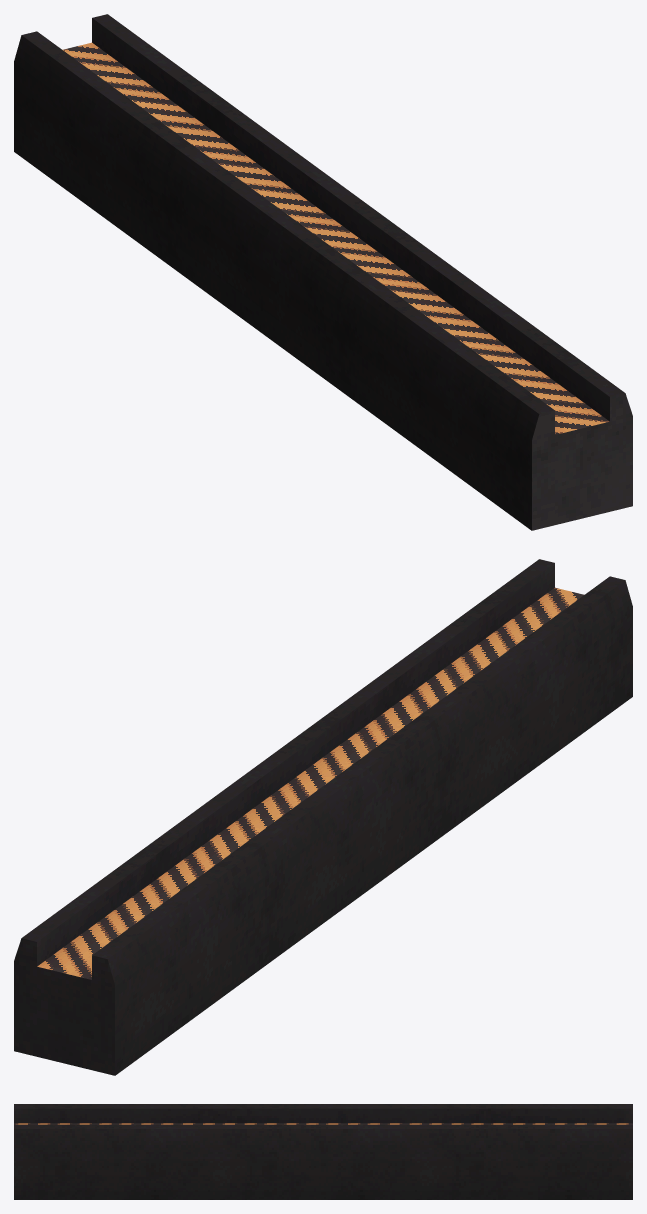
3 views of the same model, one above another, from view 1: azimuth 30°, elevation 25°; view 2: azimuth 150°, elevation 25°; view 3: azimuth 270°, elevation 25° (orthographic). The views are drawn at different scales.
Parts seen in each view (by area): view 1: 8; view 2: 8; view 3: 8.
Boxes of the visible parts, <box> form: 8: <box>14,14,632,530</box>; 8: <box>14,559,632,1075</box>; 8: <box>14,1104,632,1199</box>.
Bounding box in the file's own units: 0.4302 × 0.467 × 3.82.
Materials: 1 (1 with a texture image).
